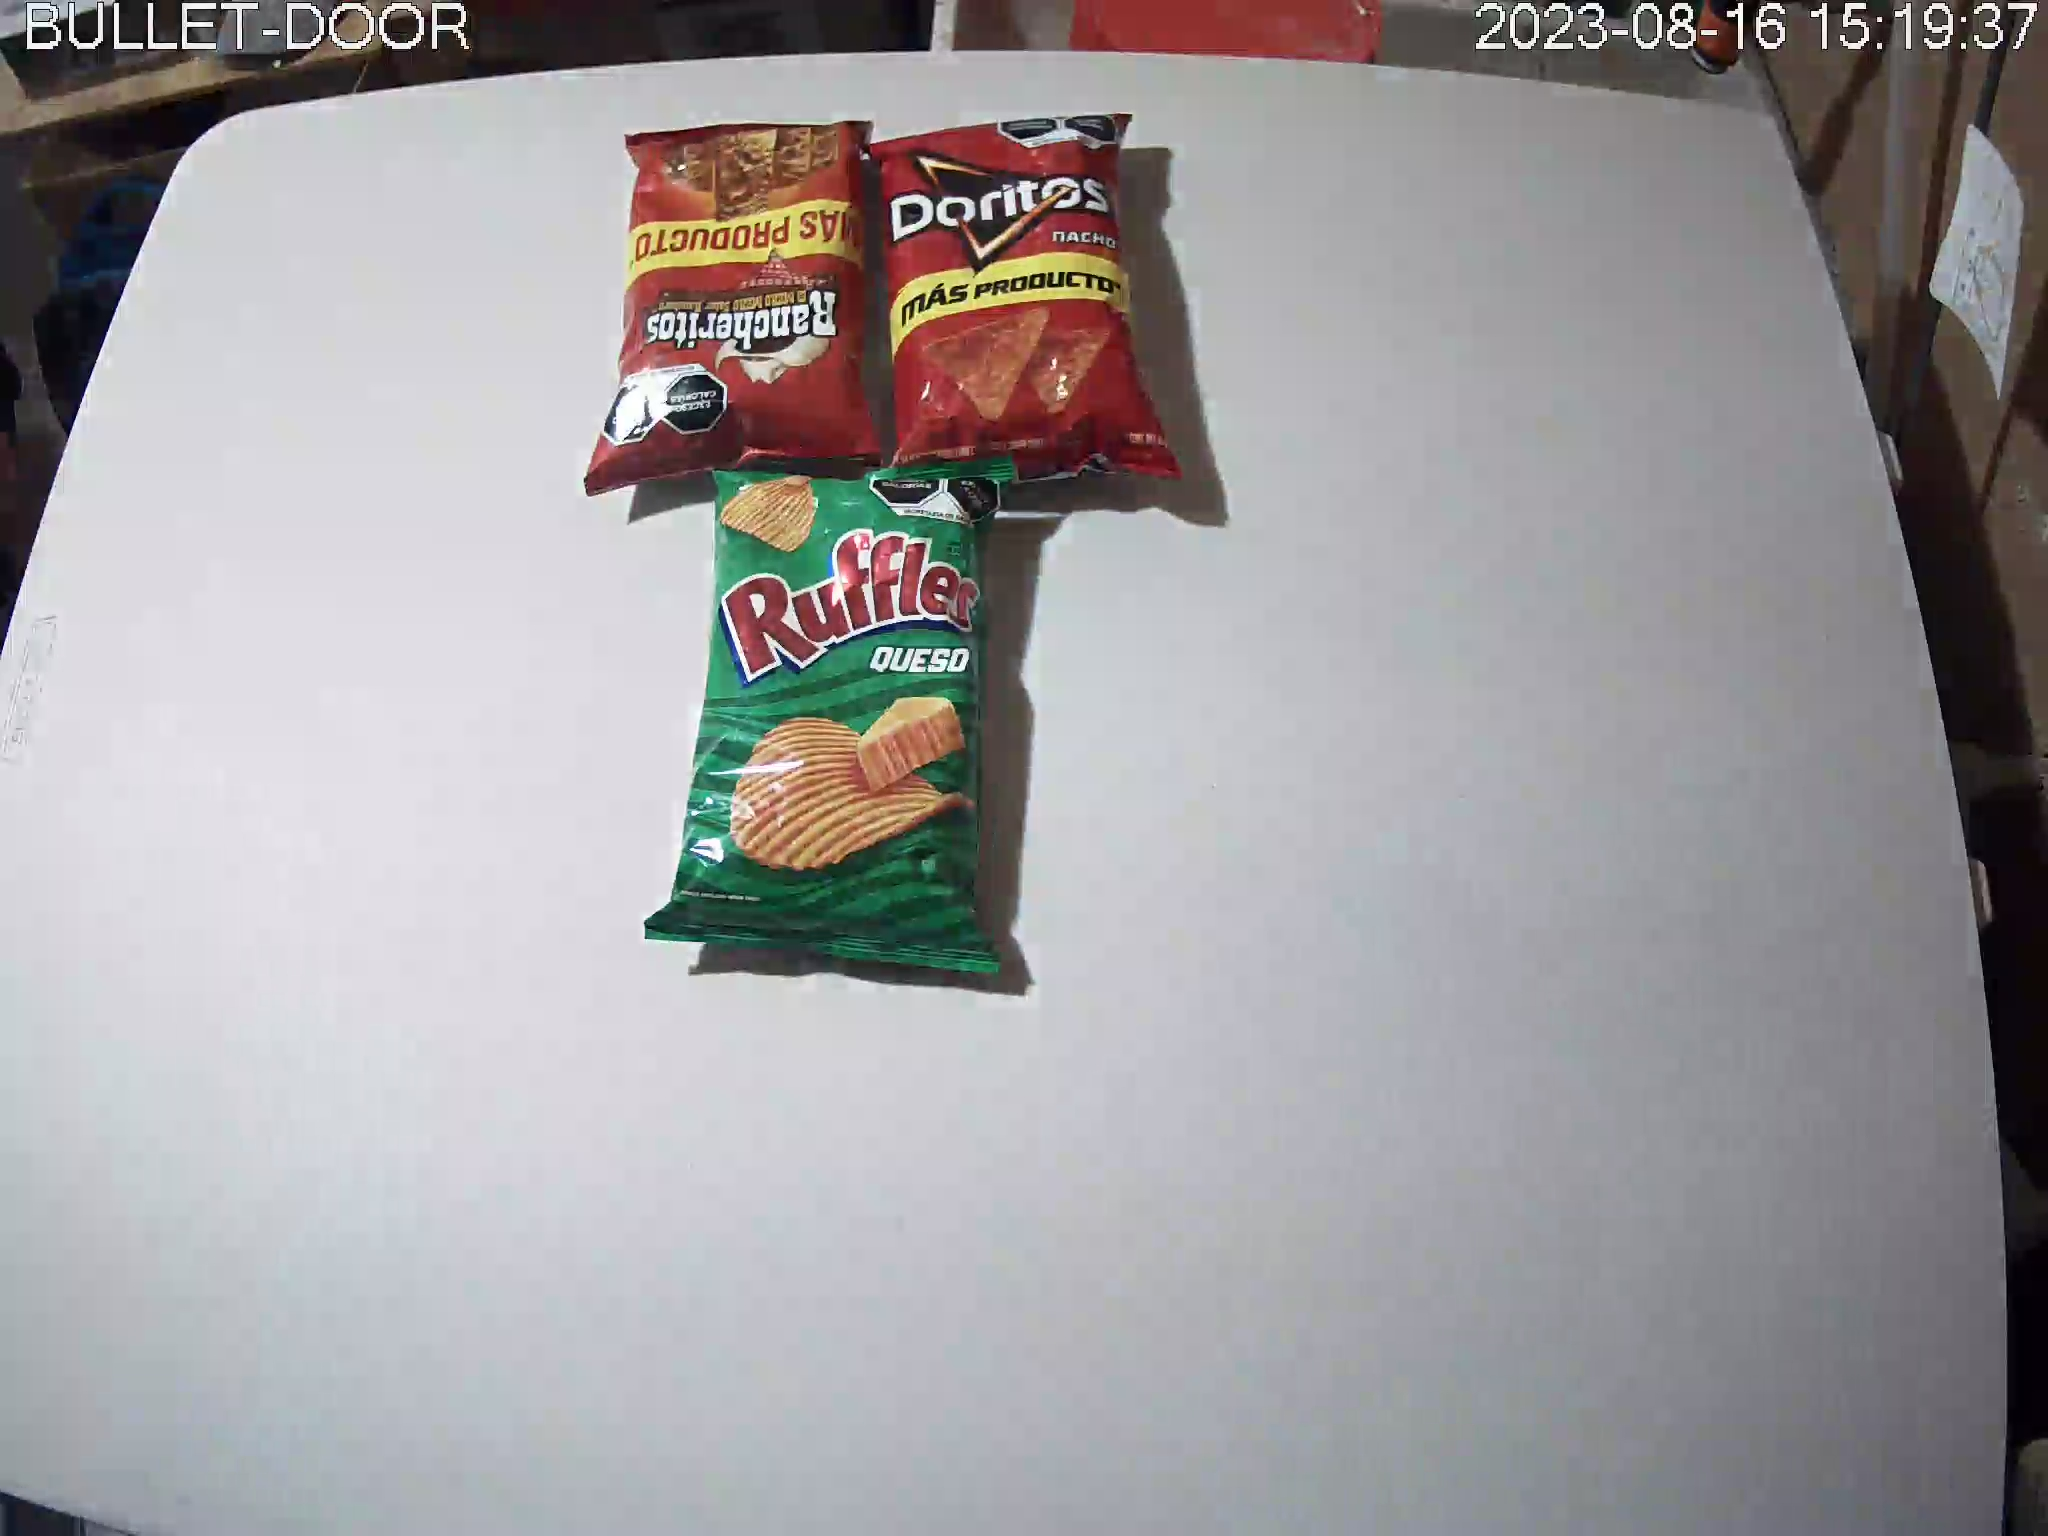DoritosN_61_F: (863, 111, 1177, 494)
Rancheritos_58_F: (584, 119, 893, 499)
RufflesQ_48_F: (645, 452, 1018, 976)
